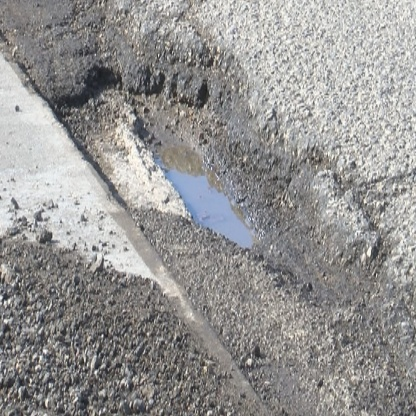pothole: (28, 24, 383, 324)
